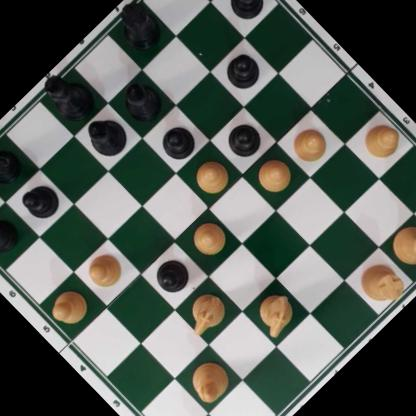black-bishop: (114, 74, 169, 129), (78, 109, 133, 164)
black-king: (34, 62, 101, 130)
black-knight: (0, 134, 25, 195)
black-pawn: (16, 176, 66, 227), (218, 47, 267, 96), (153, 119, 201, 167), (220, 116, 267, 163), (150, 253, 195, 299), (220, 0, 272, 26), (0, 211, 22, 261)
black-rook: (106, 0, 168, 58)
white-bishop: (181, 354, 238, 410)
white-king: (384, 214, 416, 280)
white-knight: (178, 286, 232, 340), (249, 287, 302, 340)
white-pawn: (355, 116, 407, 167), (284, 120, 333, 170), (185, 152, 234, 201), (80, 247, 129, 295), (45, 283, 93, 332), (185, 215, 233, 263), (250, 152, 297, 199)
white-rook: (354, 257, 410, 312)
